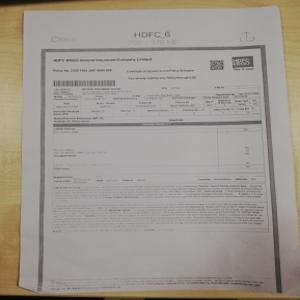image: (231, 55, 256, 68)
table: (51, 86, 263, 121)
text: (52, 202, 267, 228)
